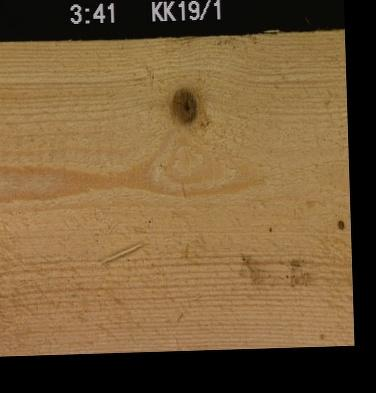small_knot: (334, 217, 345, 230)
sound_knot: (167, 82, 201, 126)
